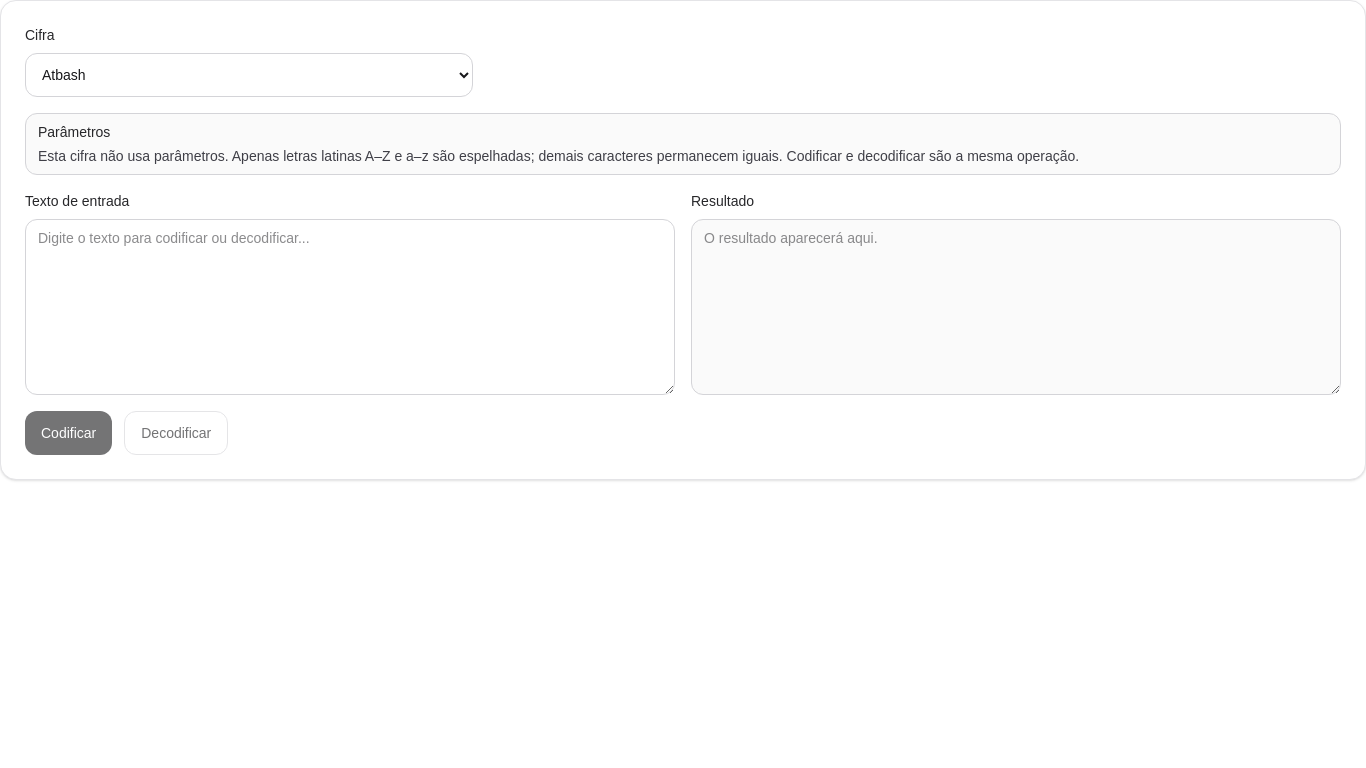
it: CipherWorkspace › exige deslocamento na César antes de habilitar Codificar com texto
This screenshot has width=1366, height=768.
Select "Caesar" in the dropdown labelled "Cifra": (249, 75) [25,53,473,97]
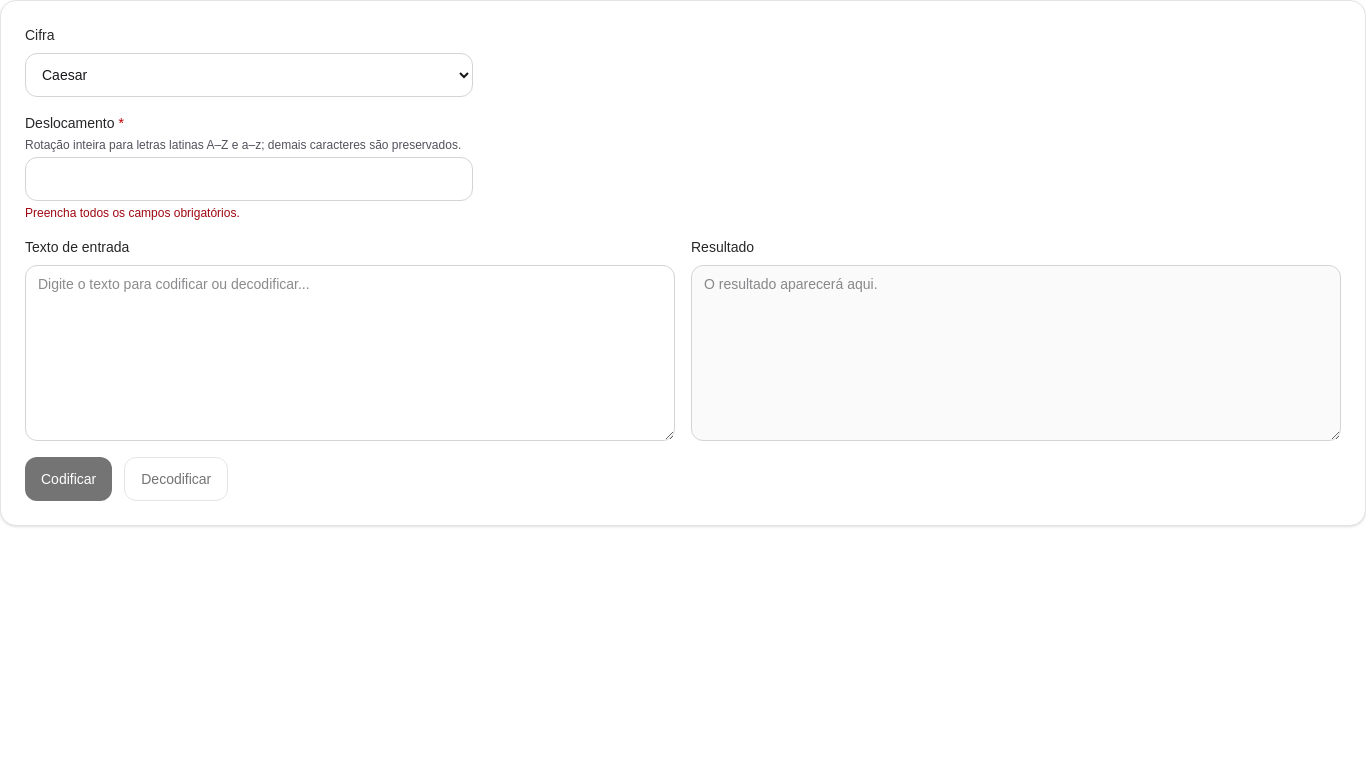
In the text box labelled "Texto de entrada": (350, 353) [25,265,675,441], type "abc"
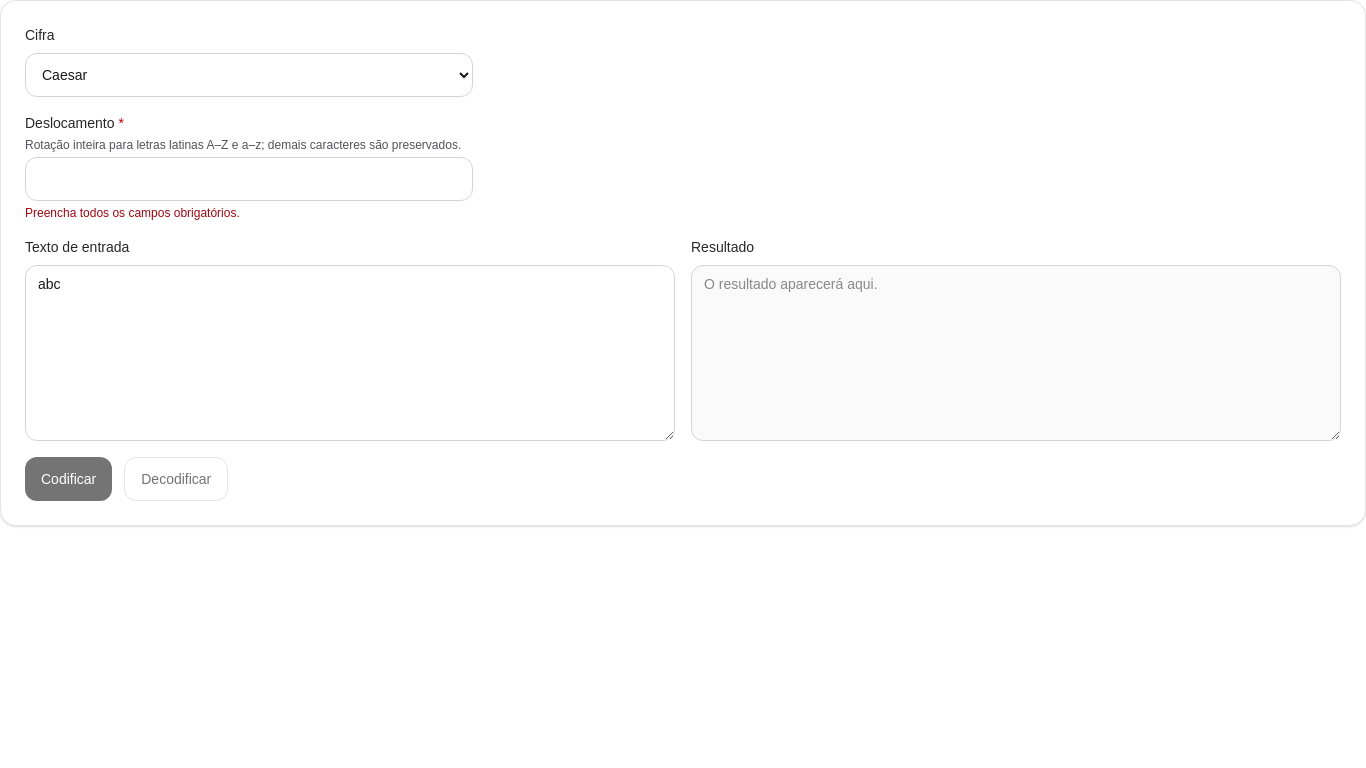
Expected: the button "Codificar" is disabled, [25,457,112,501]
In the number field labelled "Deslocamento *": (249, 179) [25,157,473,201], type "1"
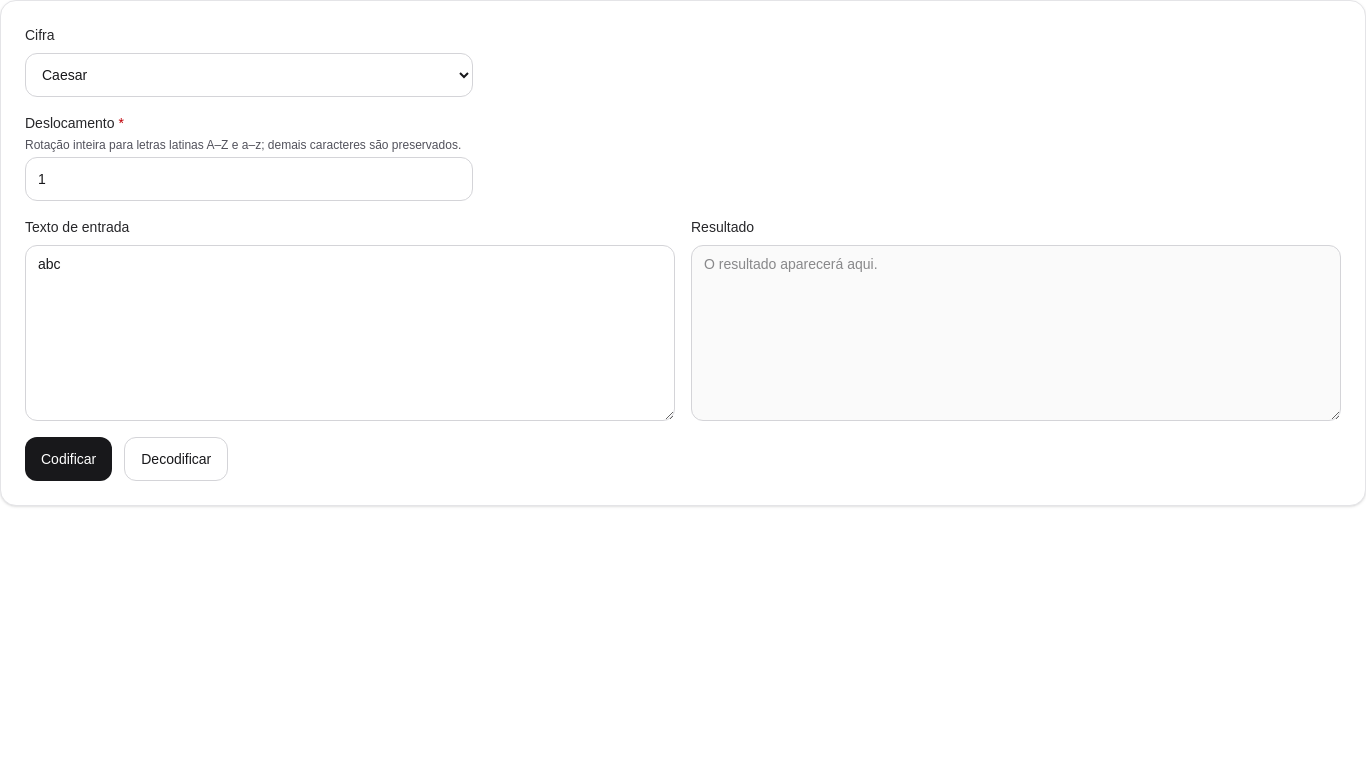
Result: the button "Codificar" is enabled at [25,437,112,481]
